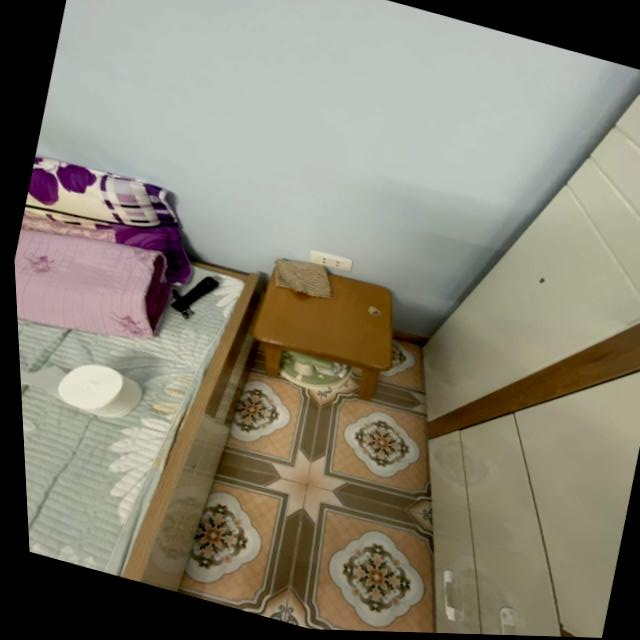outlet: (309, 248, 355, 273)
